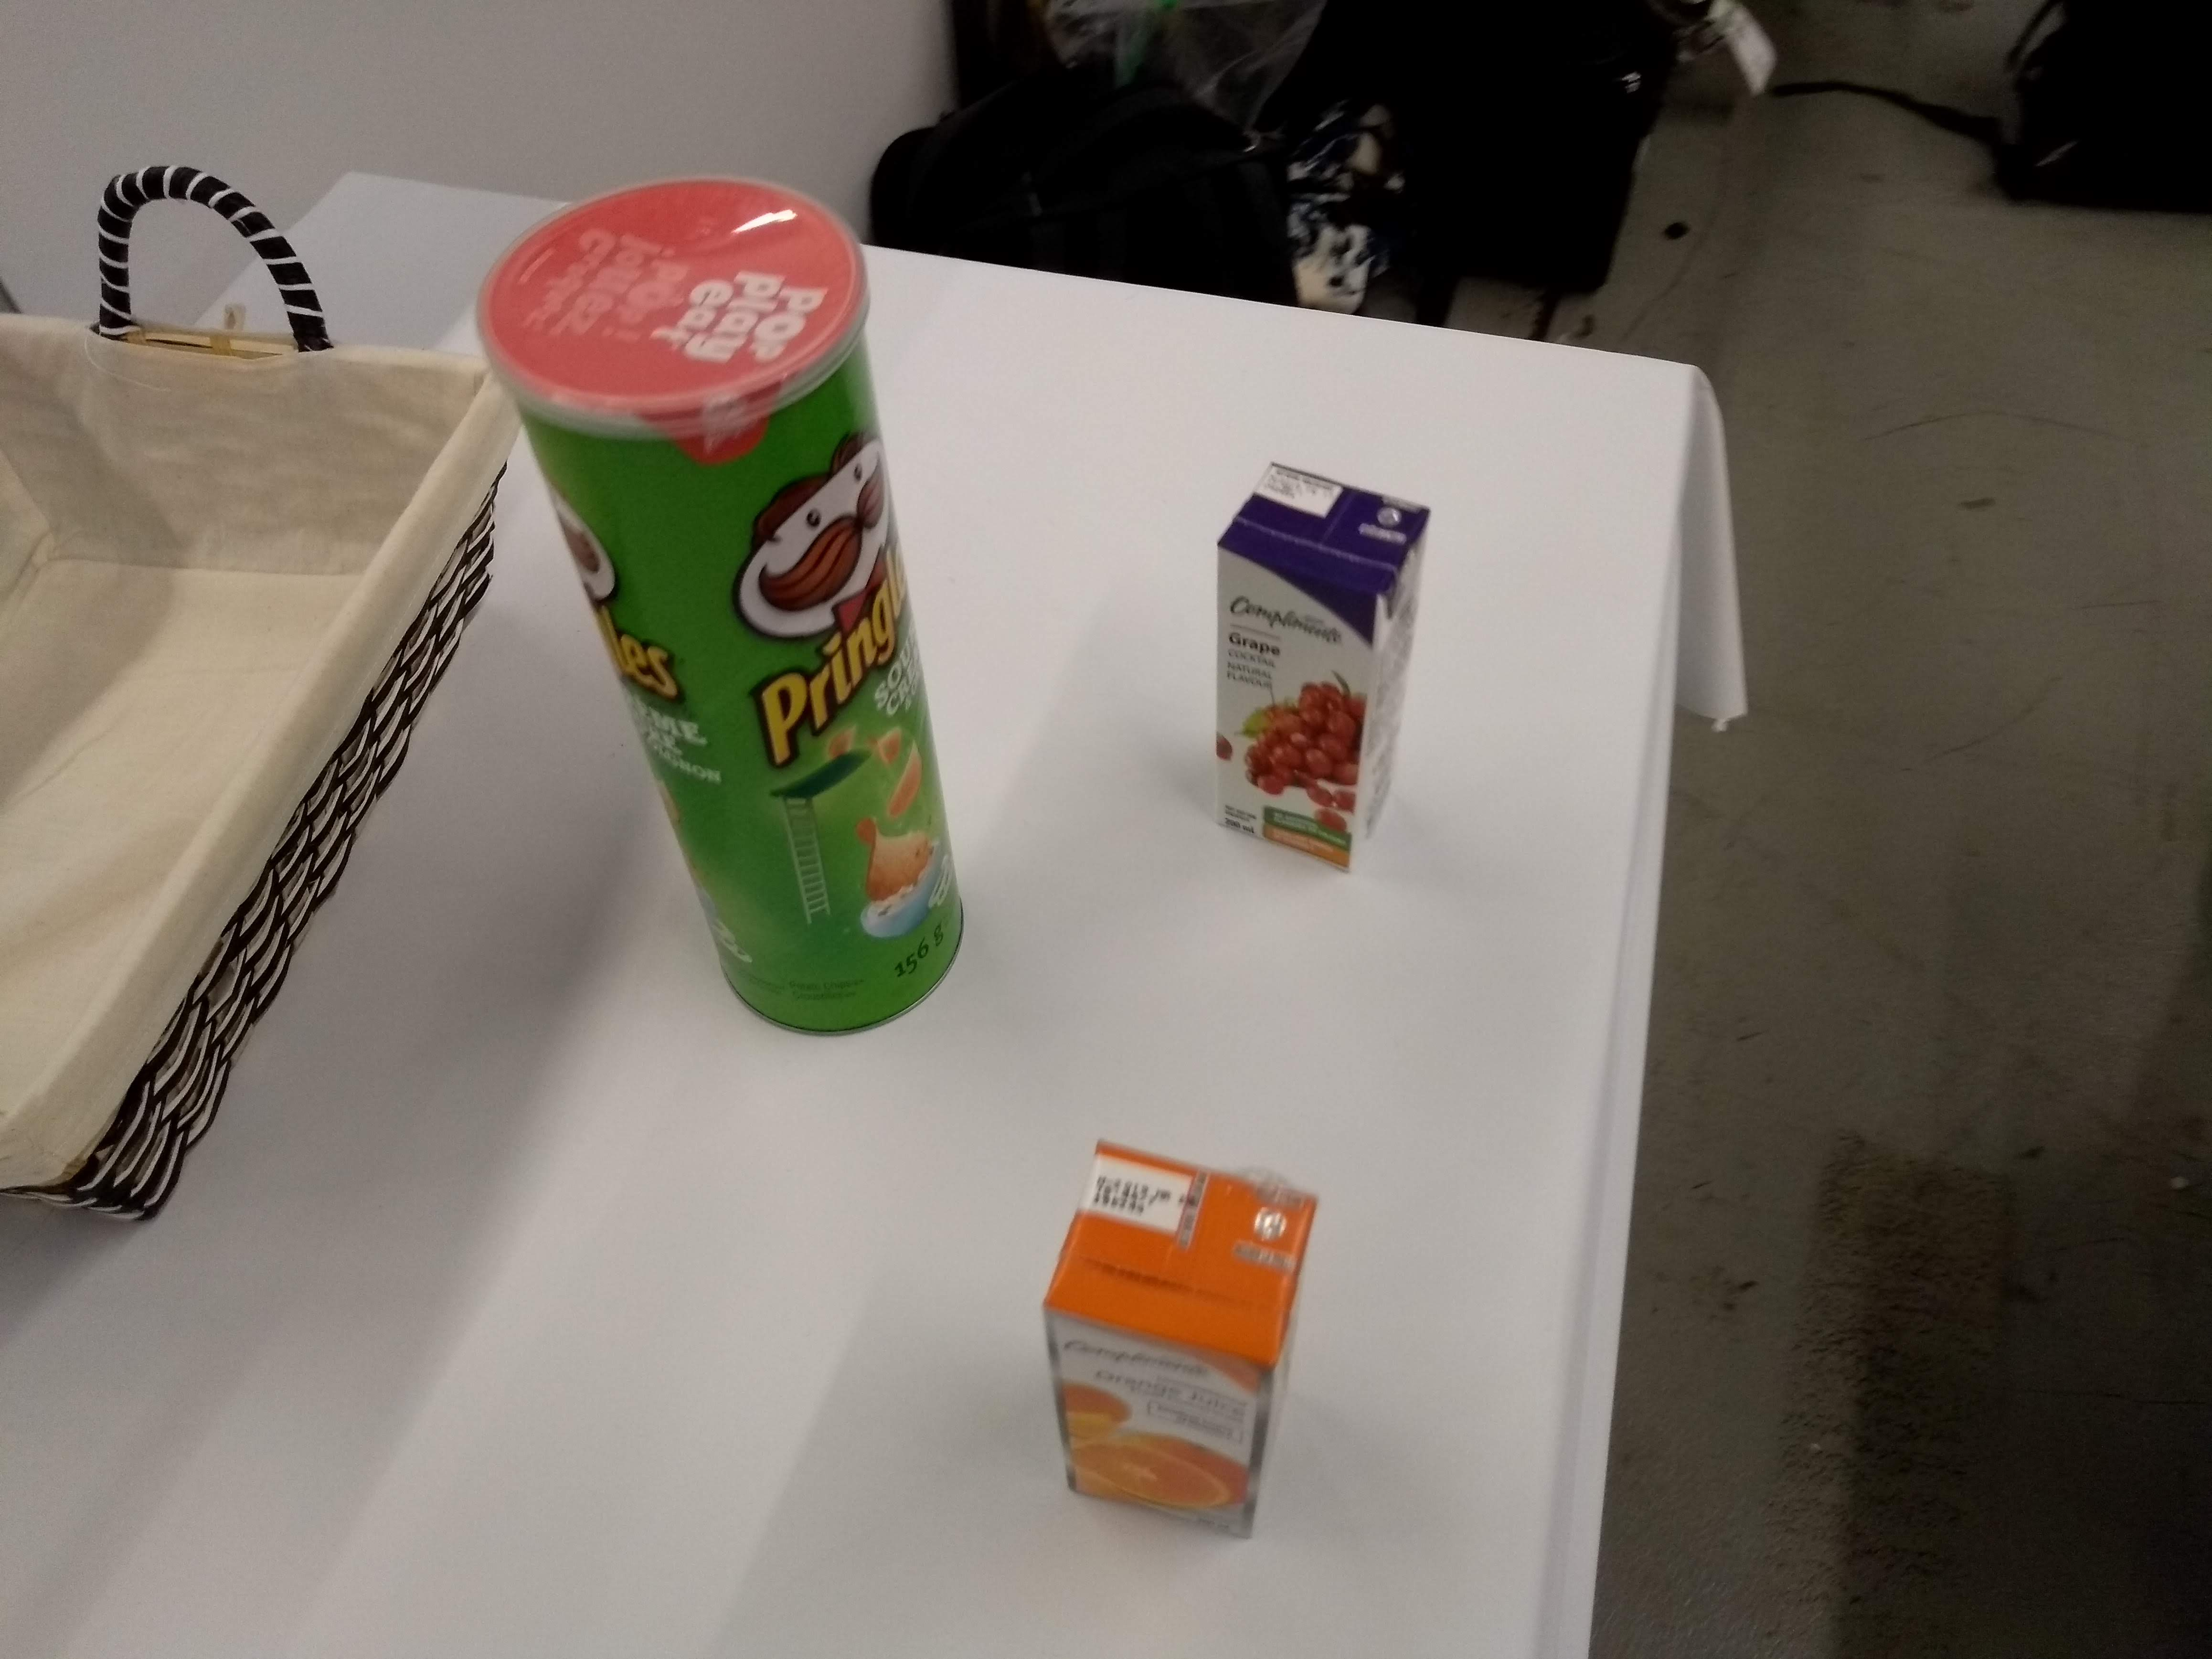grape_juice: (1200, 457, 1453, 882)
orange_juice: (1022, 1131, 1336, 1553)
pringles: (463, 166, 981, 1042)
